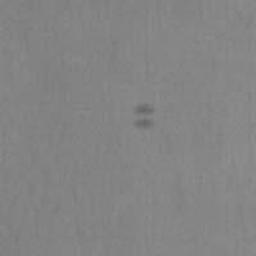Oil spot: (135, 104, 154, 114), (135, 119, 152, 128)
